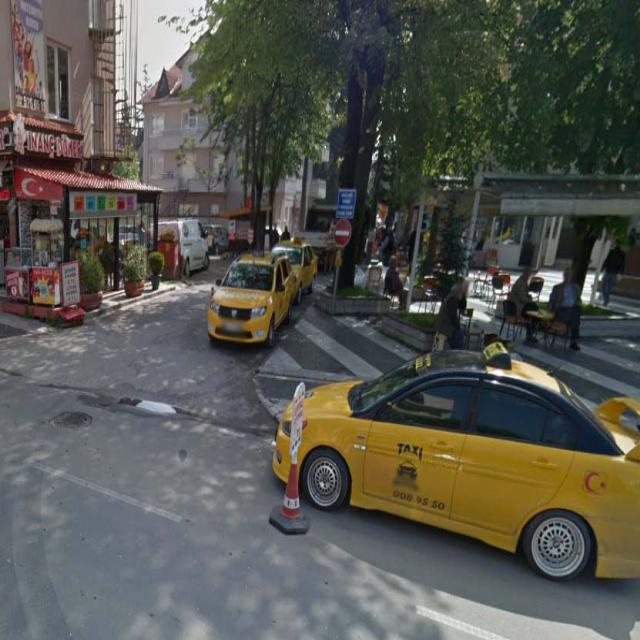girisyok: (333, 221, 352, 245)
